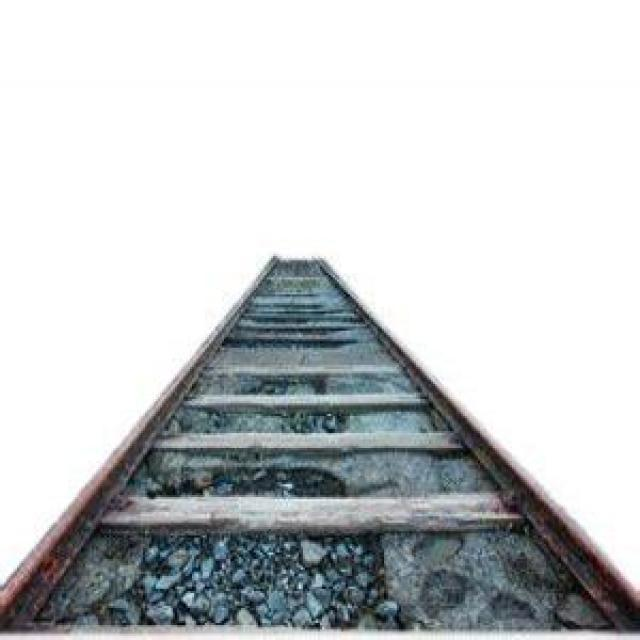rail: (1, 254, 640, 639)
